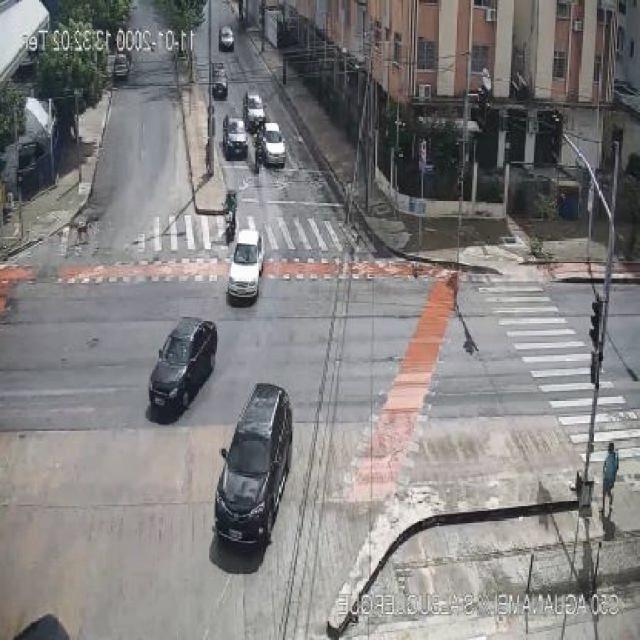Car: (210, 379, 299, 576), (136, 312, 223, 428), (220, 230, 270, 310), (215, 109, 251, 168), (265, 112, 295, 168), (243, 89, 274, 130), (208, 56, 228, 106), (218, 21, 239, 58)
Cycle: (215, 180, 240, 238), (249, 119, 272, 177)
